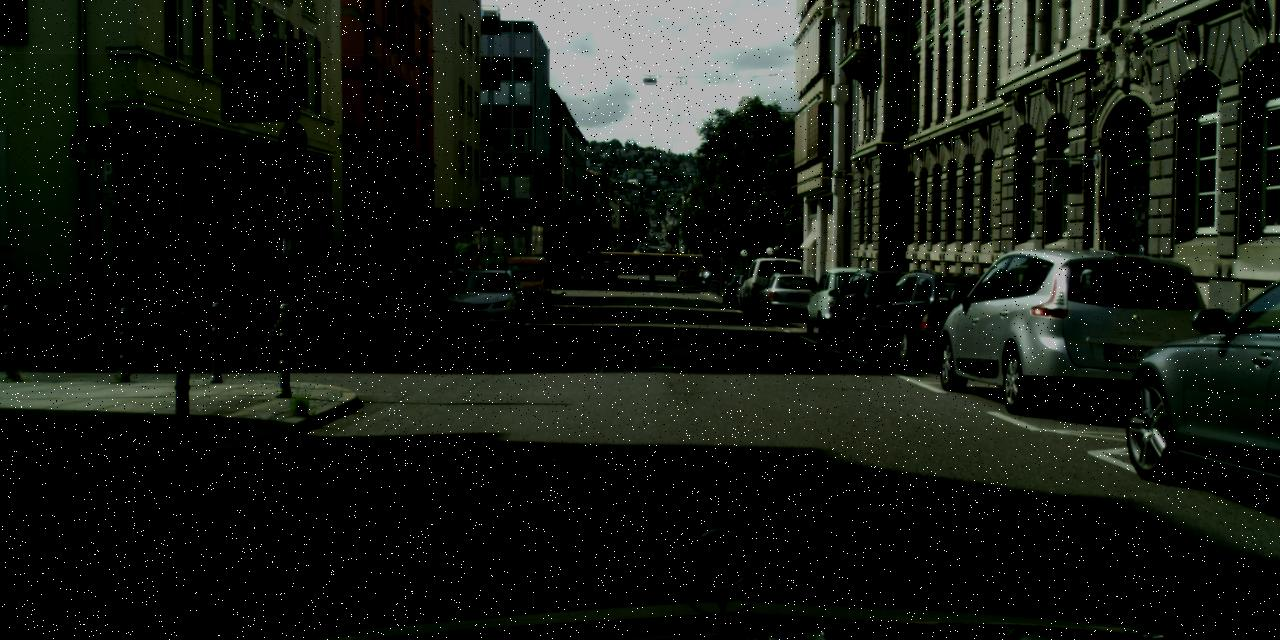ped: (432, 256, 448, 297)
